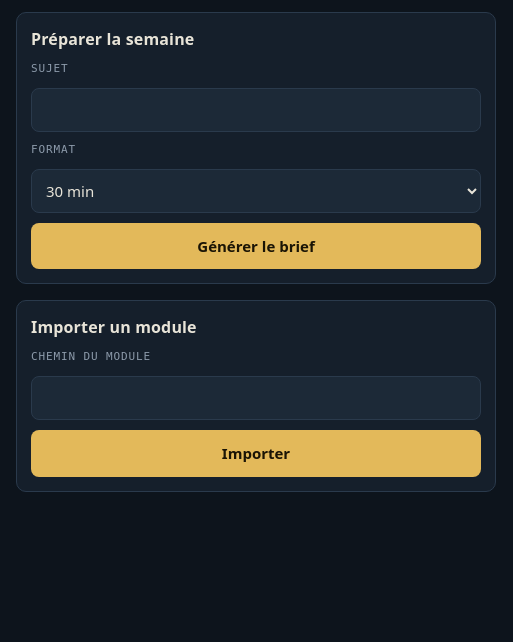
import refusé 422 : erreurs listées, aucun succès
The width and height of the screenshot is (513, 642).
Type "/tmp/m" into the field labelled "Chemin du module".
click(256, 398); type("/tmp/m")  # box x1=31 y1=376 x2=481 y2=420
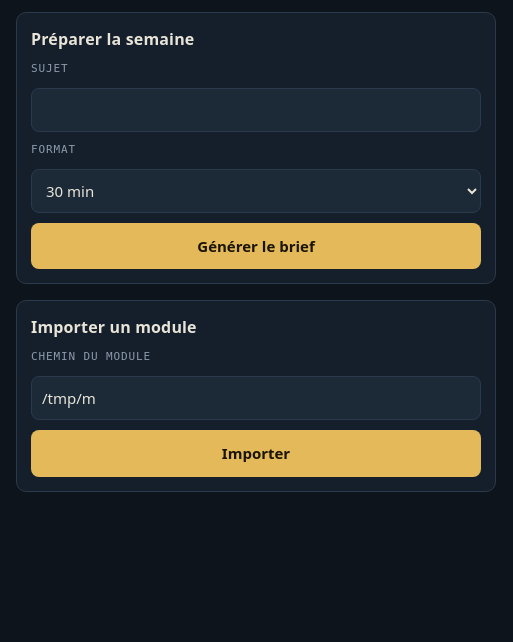
Click the button "Importer".
click(256, 453)  # box x1=31 y1=430 x2=481 y2=476
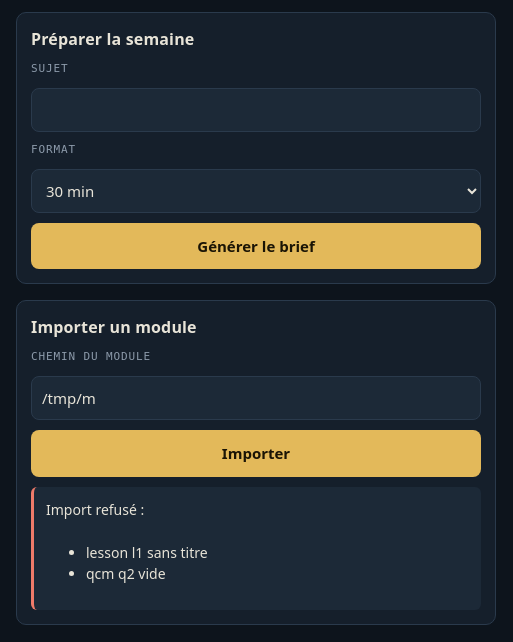
Expected: the list item "lesson l1 sans titre" is shown, x1=86 y1=542 x2=208 y2=562
Expected: the list item "qcm q2 vide" is shown, x1=86 y1=564 x2=166 y2=582
